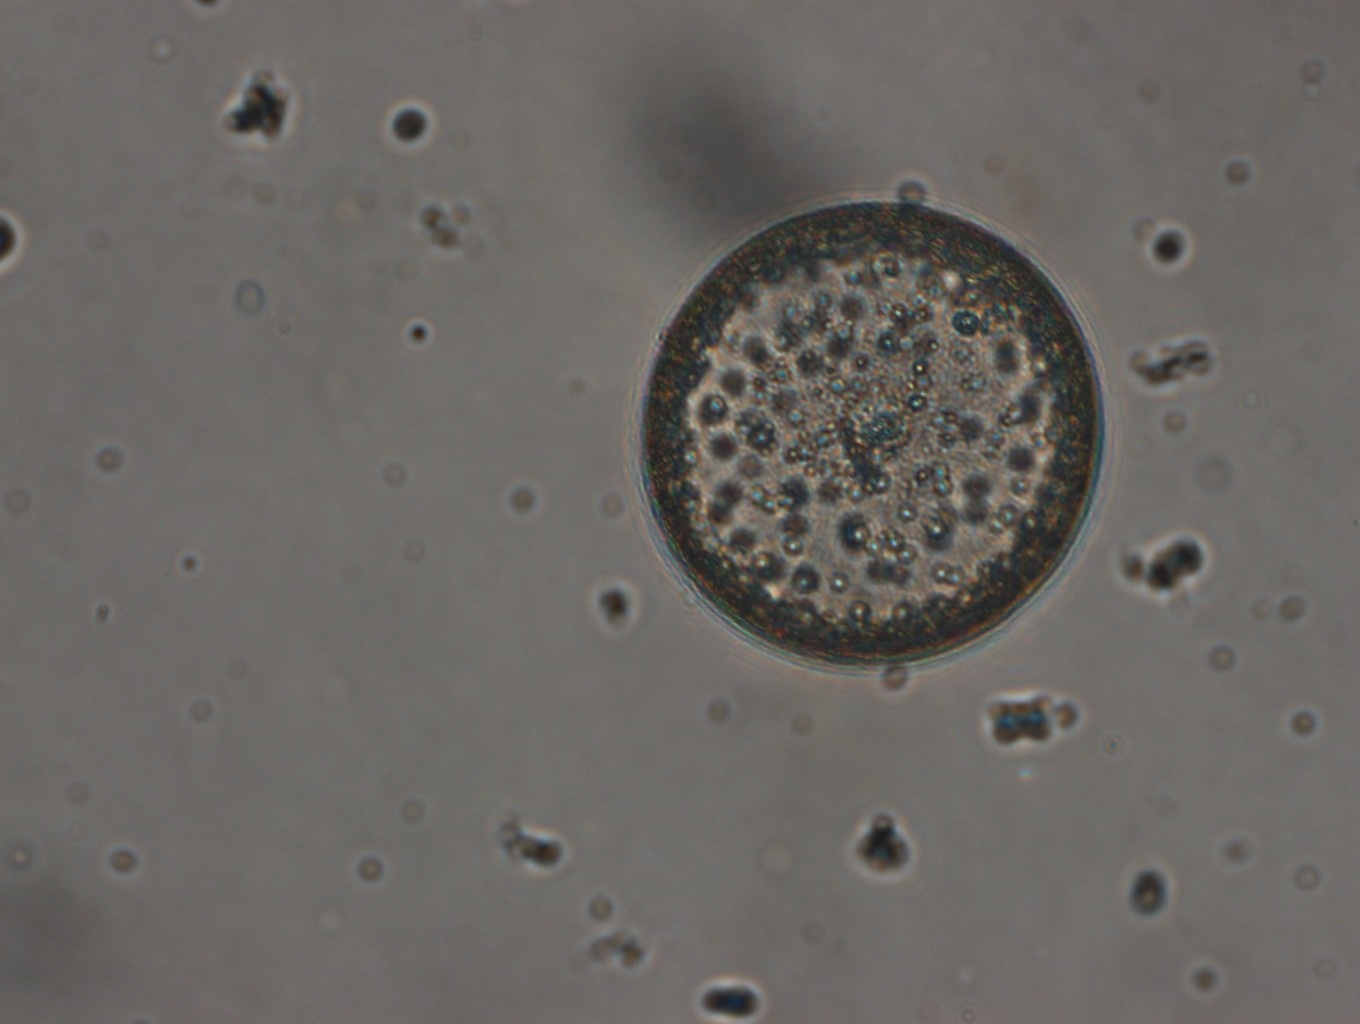coscinodiscus: (613, 184, 1123, 683)
